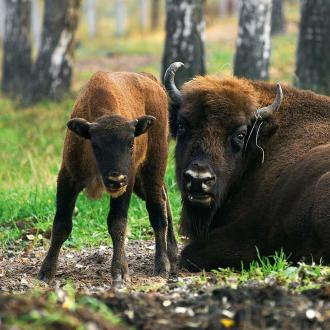zubr: (160, 44, 330, 273), (31, 54, 181, 297)
